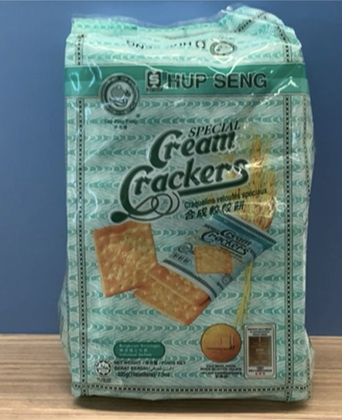crackers_150g: (84, 43, 298, 388)
